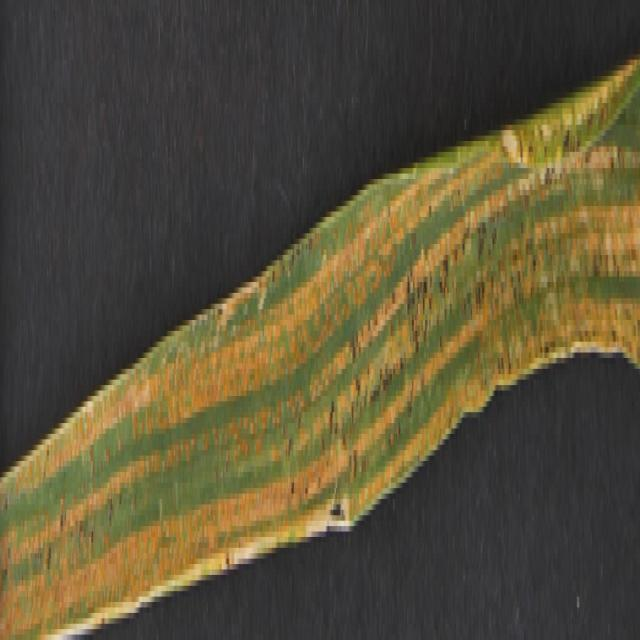leaf rust: (1, 114, 639, 629)
